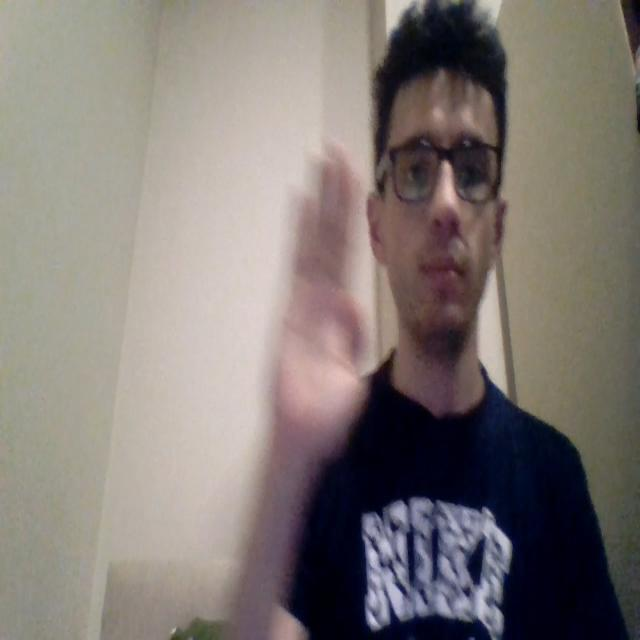hello: (268, 136, 374, 482)
